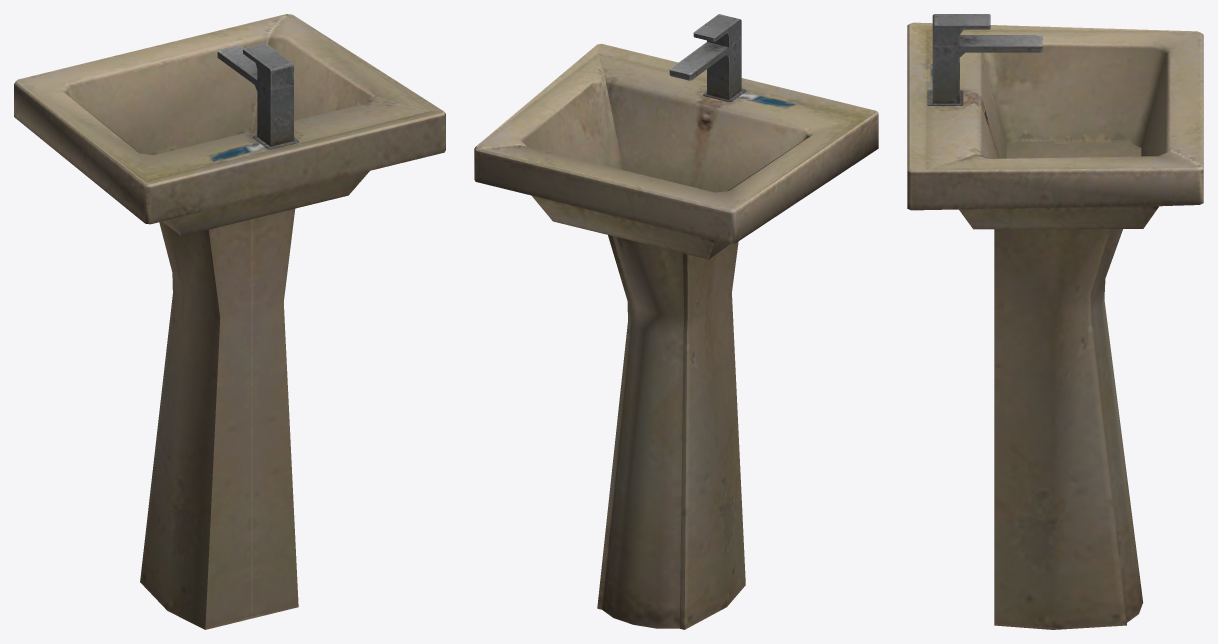
The model's file is Prop_Xsc01.glb.
3 renders of one model, left to right at view 1: azimuth 30°, elevation 25°; view 2: azimuth 150°, elevation 25°; view 3: azimuth 270°, elevation 25°, orthographic. The views are drawn at different scales.
Parts seen in each view (by area): view 1: xiutz_xsc_01; view 2: xiutz_xsc_01; view 3: xiutz_xsc_01.
Part boxes in pixels (x1,y1,x2,y2): xiutz_xsc_01: (14,14,445,629); xiutz_xsc_01: (474,14,878,629); xiutz_xsc_01: (907,14,1203,629).
Bounding box in the file's own units: 1.06 × 1.94 × 0.8935.
Materials: 1 (1 with a texture image).
